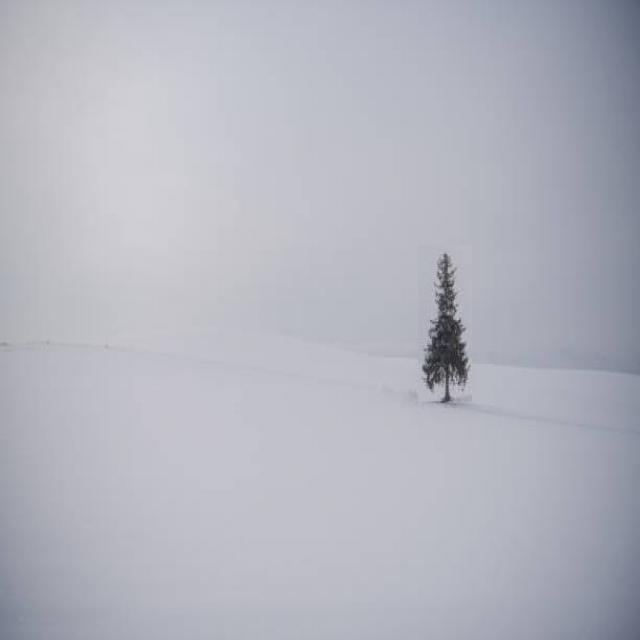tree: (418, 245, 472, 403)
